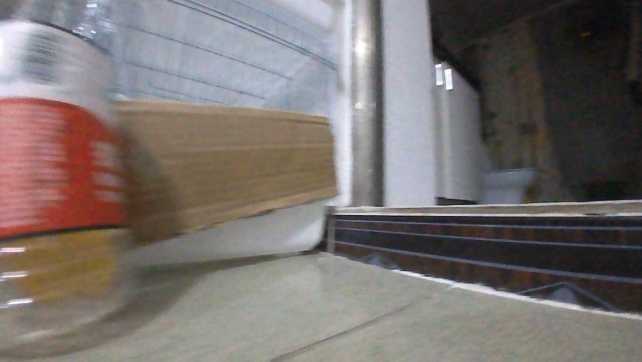door_sill: (324, 198, 640, 305)
toilet: (483, 167, 535, 200)
